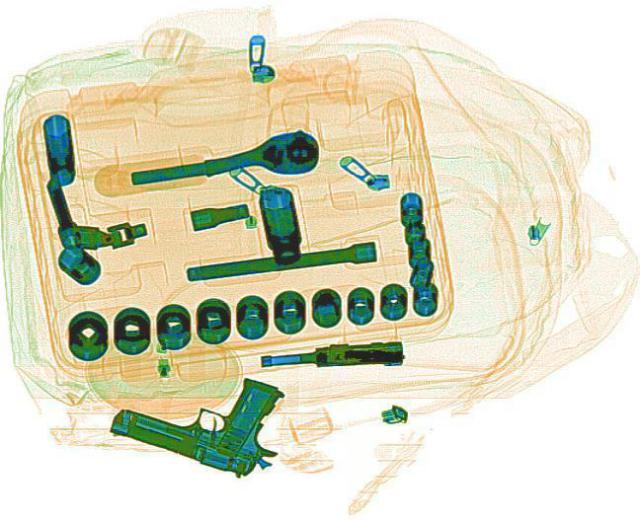Gun: (100, 344, 312, 481)
